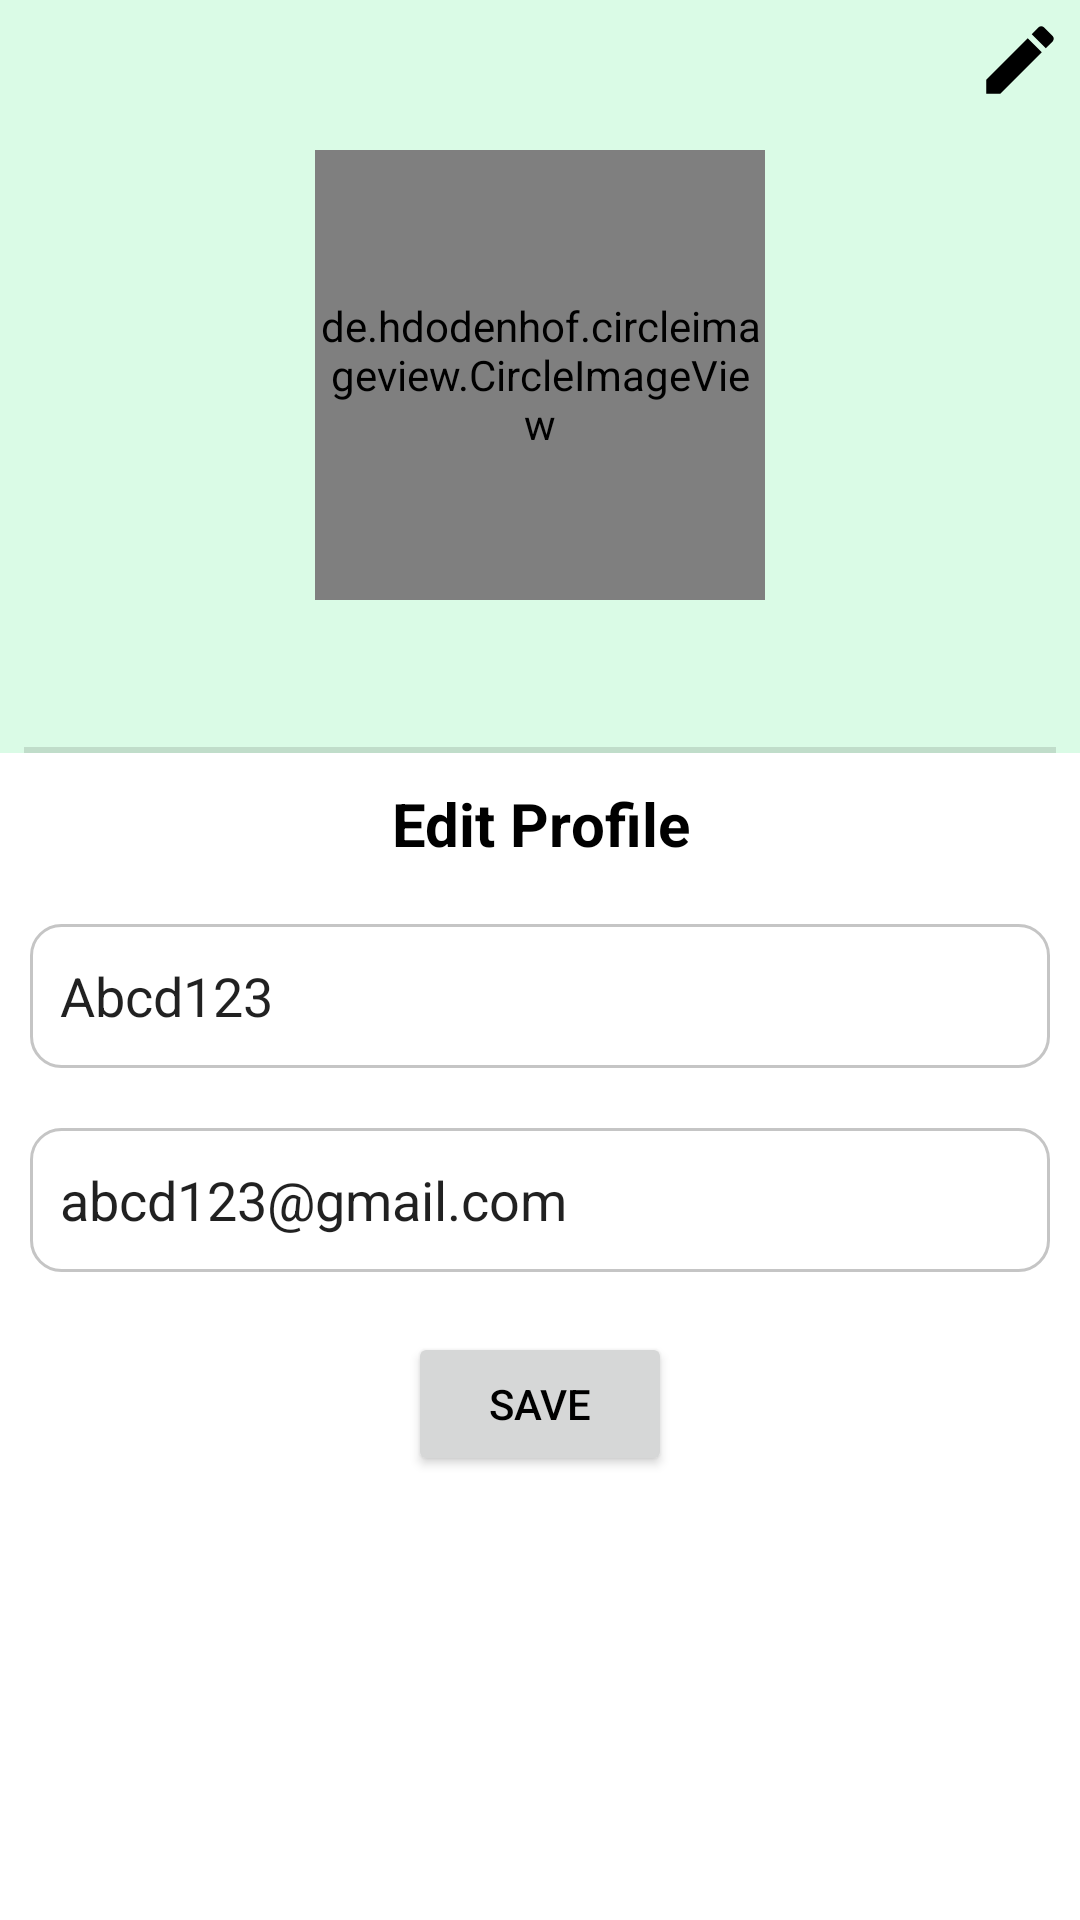

Where to tap for icons on this 1080*1920 app screen, as point (x, y):
edit: point (1020, 60)
